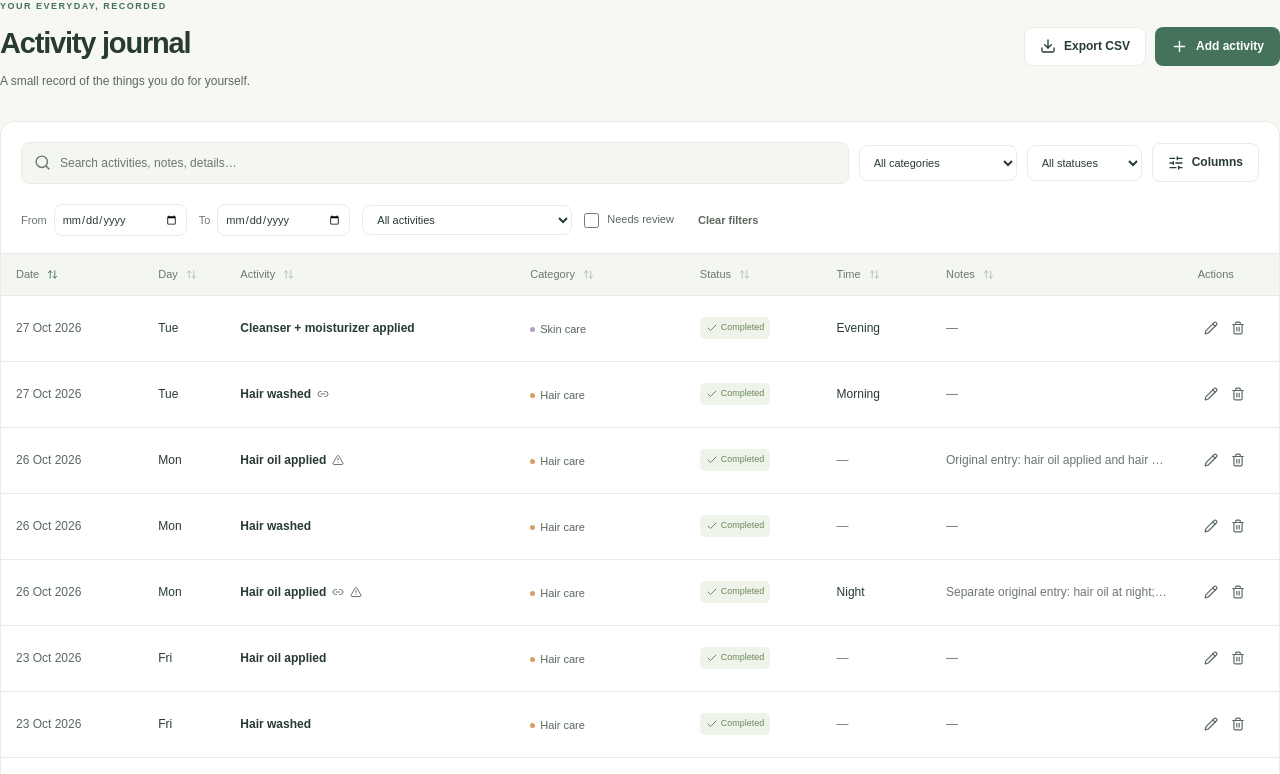
Scenario: connected activity UI › renders the current TanStack table, filters historical records, and opens edit details
The image size is (1280, 774).
Type "AirPods" into the field named "Search activity log" at (448, 163), box [60,143,836,183]
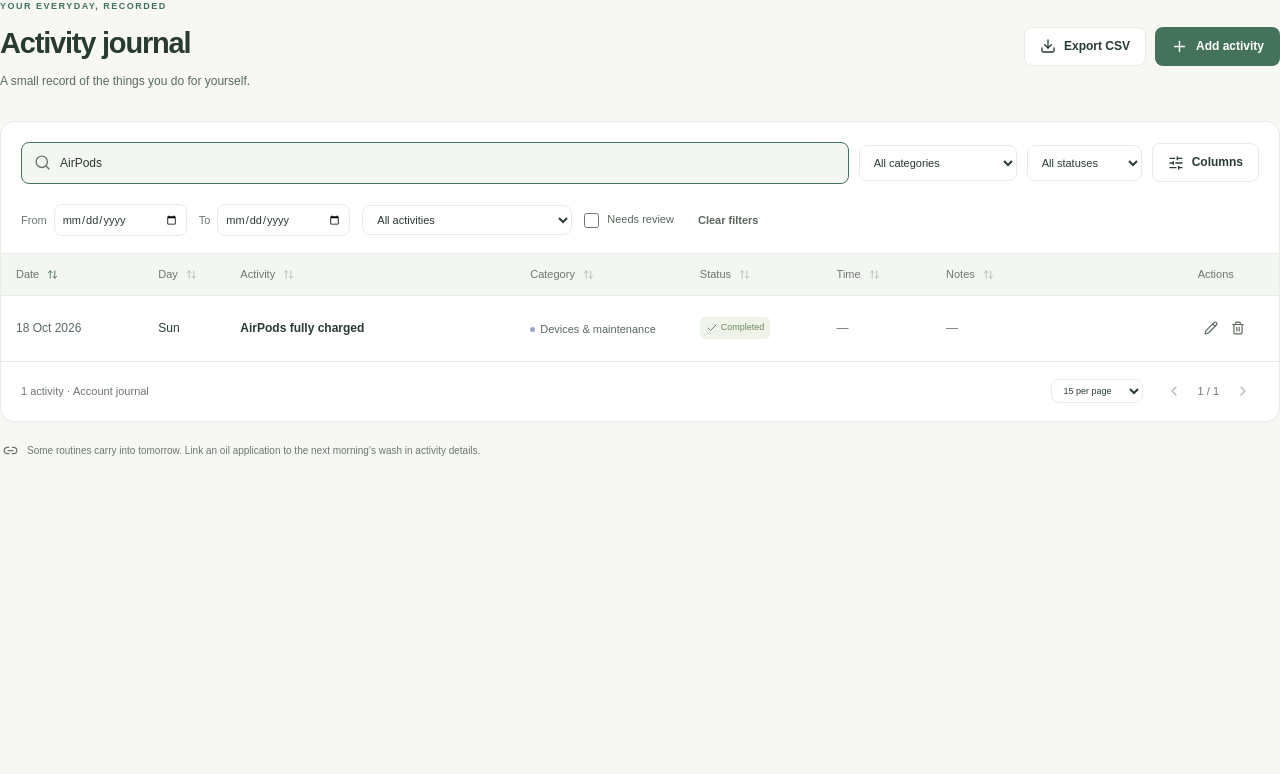
Check: the text "1 activity" is shown, box [21,383,149,400]
Click the button named "Edit AirPods fully charged" at (1211, 328), box [1198,312,1225,345]
(page scrolled)
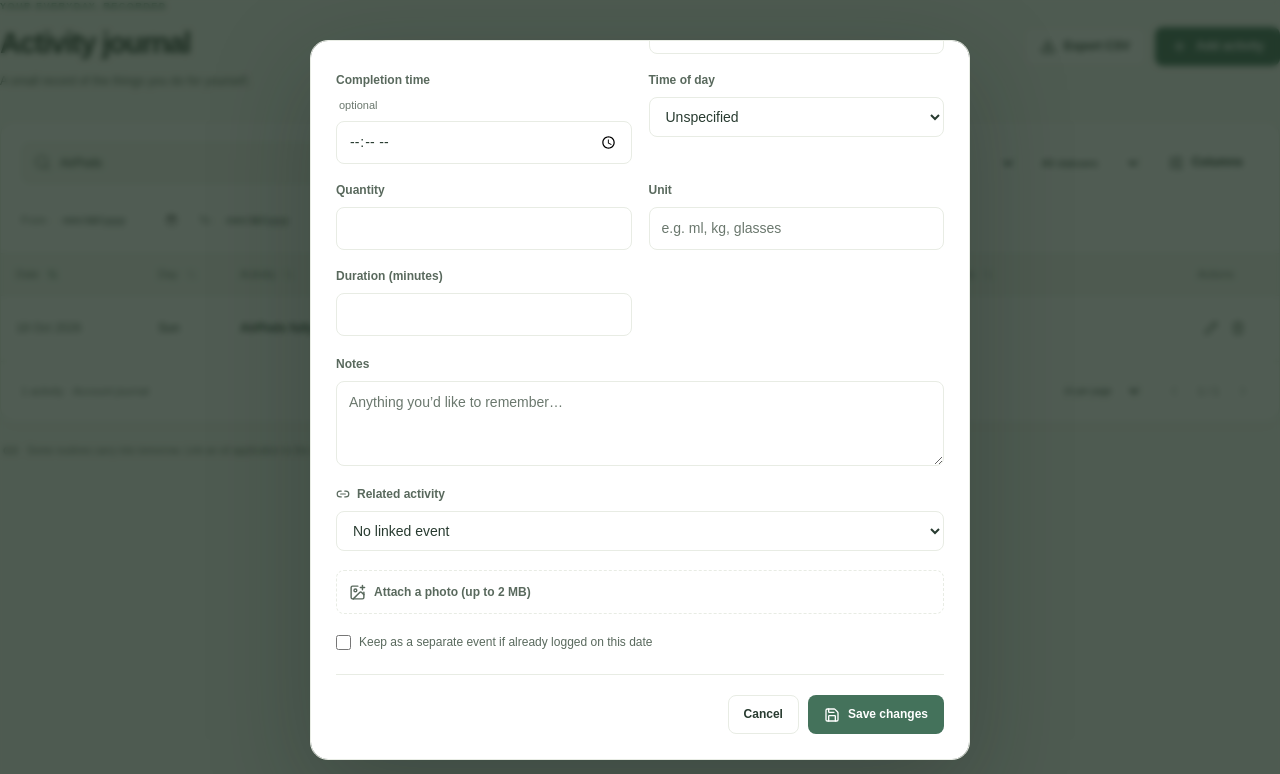
Check: the dialog "Edit activity" is shown, box [310,40,970,760]
Type "Updated from journal" into the text box labelled "Notes" at (640, 424), box [336,381,944,466]
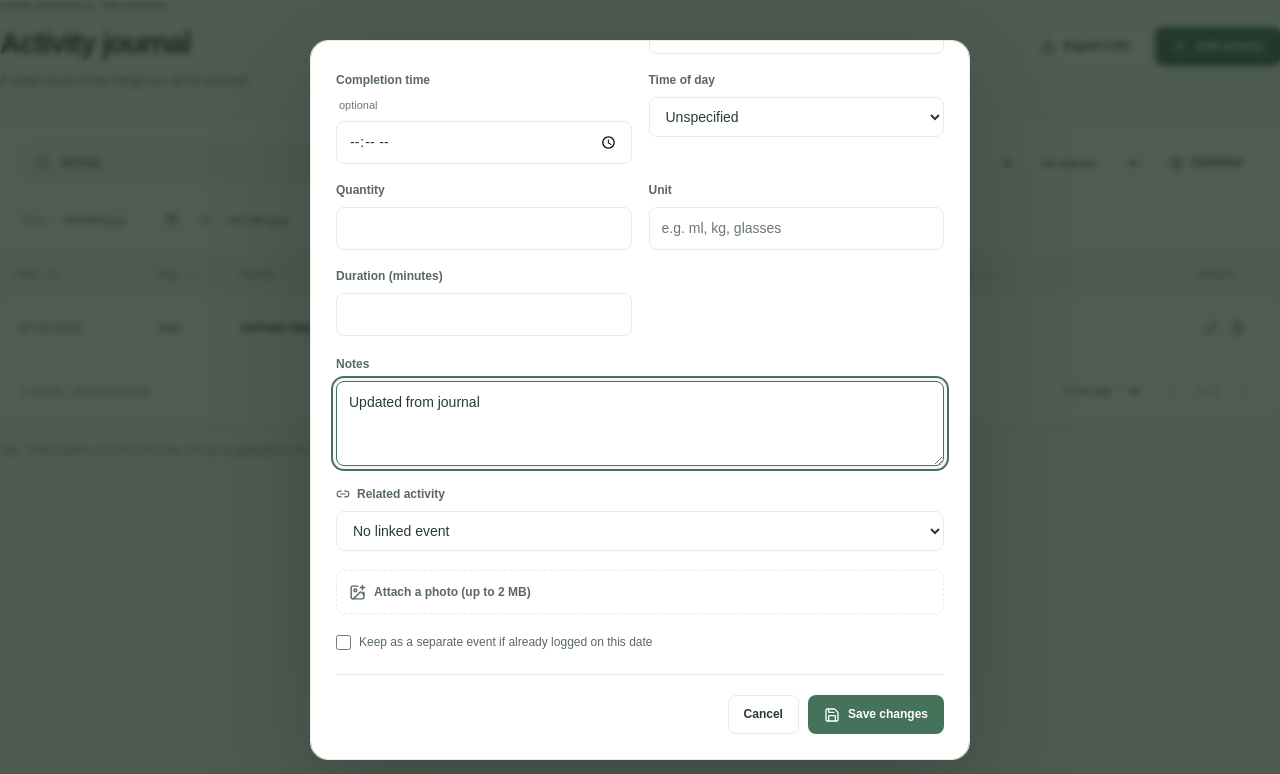
Click the button "Save changes" at (876, 715), box [808,695,944,734]
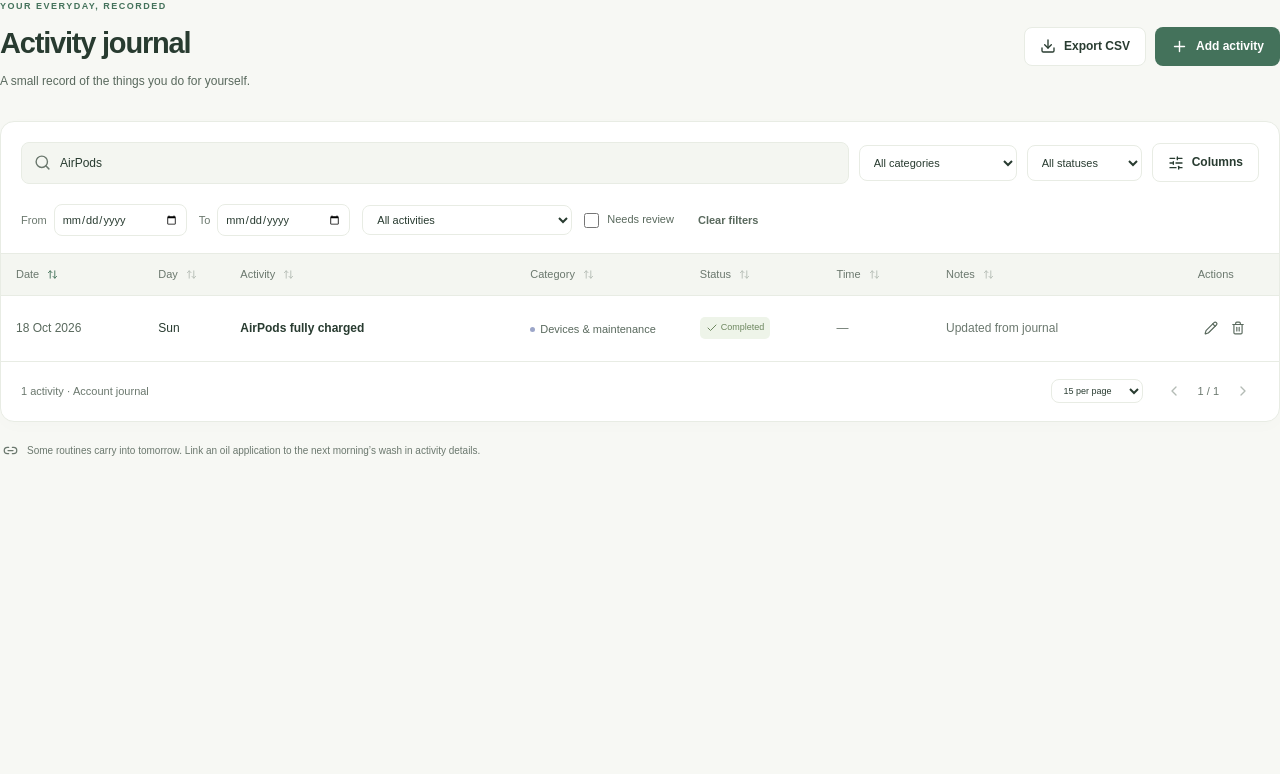
Check: the text "Updated from journal" is shown, box [946,321,1058,335]
